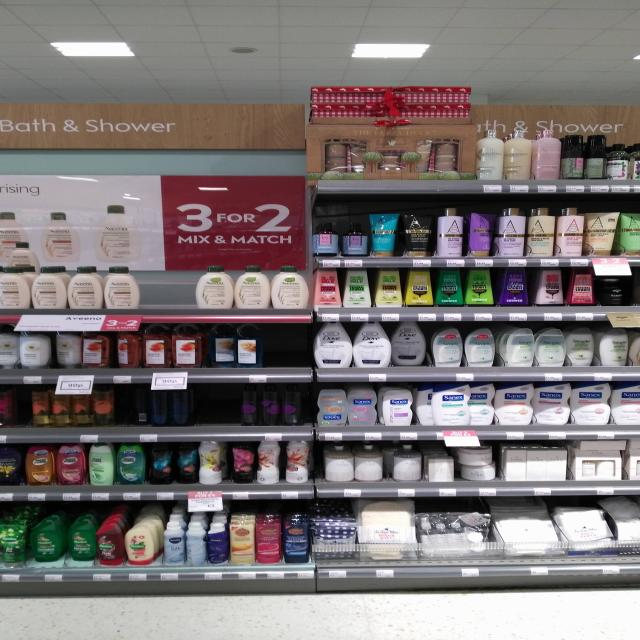empty: (140, 260, 193, 314), (193, 384, 244, 426), (257, 325, 303, 368), (11, 386, 38, 430)
